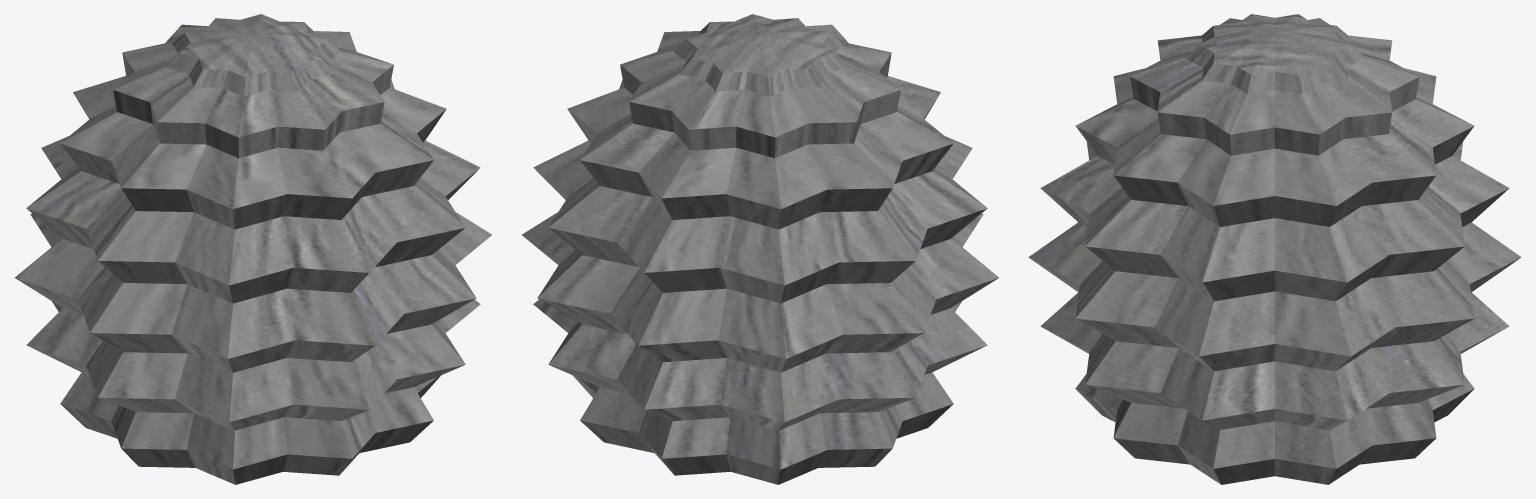
The model's file is BushBlock001.obj.
The picture shows the model from 3 angles, left to right: view 1: azimuth 30°, elevation 25°; view 2: azimuth 150°, elevation 25°; view 3: azimuth 270°, elevation 25°; orthographic projection.
Parts seen in each view (by area): view 1: pSphere1; view 2: pSphere1; view 3: pSphere1.
Boxes of the visible parts, x1,y1,x2,y2 form: pSphere1: (15, 14, 491, 484); pSphere1: (522, 14, 998, 484); pSphere1: (1028, 14, 1521, 484).
Bounding box in the file's own units: 95.11 × 85.36 × 100.
Materials: 2 (2 with a texture image).
